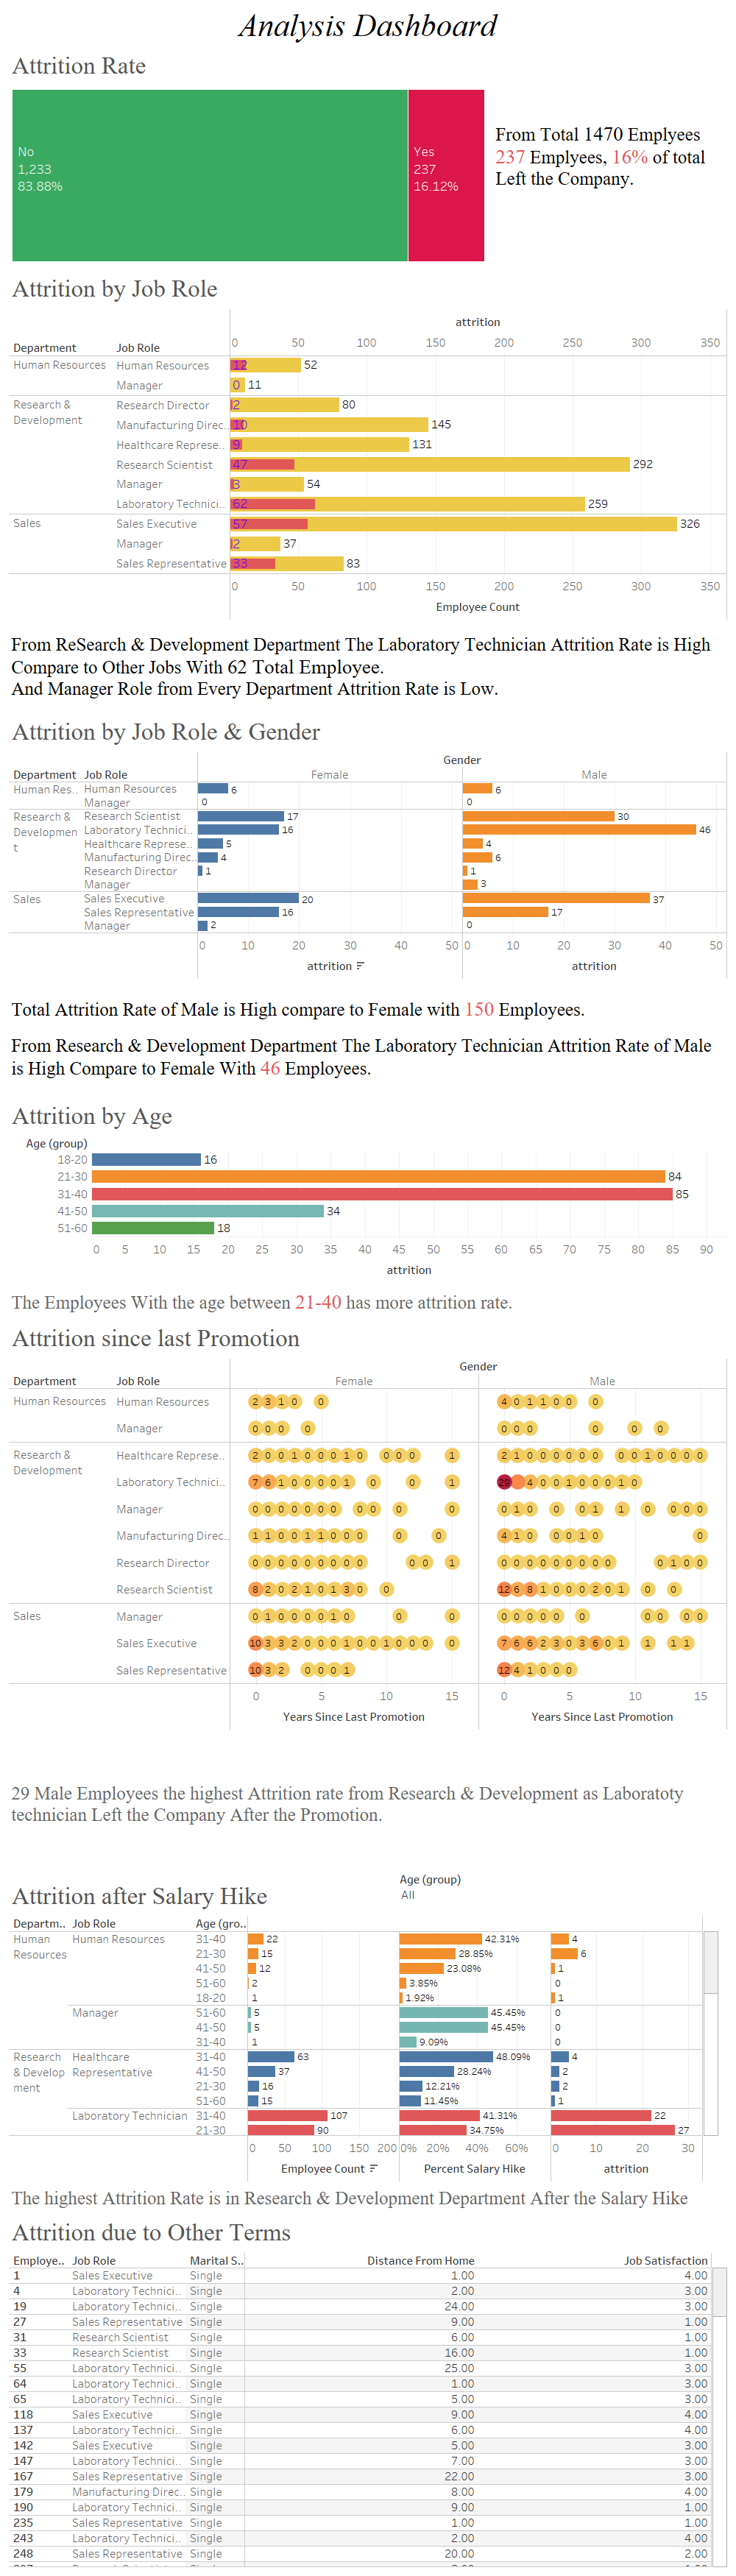

The dashboard page shown, as its layout file describes it:
{"tool":"tableau","page":{"name":"Dashboard 1","canvas":[1000,3500],"ordinal":0},"visuals":[{"type":"text","box":[8,8,984,53.2]},{"type":"worksheet","title":"Sheet 2","mark":"Automatic","box":[8,61.2,658,302.8]},{"type":"text","box":[666,61.2,326,302.8]},{"type":"worksheet","title":"Sheet 9","mark":"Bar","rows":["Department","JobRole"],"cols":["EmployeeCount","Calculation_286260112796614656"],"box":[8,364,984,483]},{"type":"text","box":[8,847,984,119]},{"type":"worksheet","title":"Sheet 3","mark":"Bar","rows":["Department","JobRole"],"cols":["Gender","Calculation_286260112796614656"],"box":[8,966,984,369]},{"type":"text","box":[8,1335,984,153]},{"type":"worksheet","title":"Sheet 10","mark":"Automatic","cols":["Calculation_286260112796614656"],"box":[8,1488,984,259]},{"type":"text","box":[8,1747,984,43]},{"type":"worksheet","title":"Sheet 4","mark":"Circle","rows":["Department","JobRole"],"cols":["Gender","YearsSinceLastPromotion"],"box":[8,1790,984,564.7]},{"type":"text","box":[8,2354.7,984,193]},{"type":"filter","title":"Sheet 5","param":"[federated.014920j0fi0i0o102ilbd05ff0xi].[Age (group)]","box":[543,2542,324,76]},{"type":"worksheet","title":"Sheet 5","mark":"Bar","rows":["Department","JobRole"],"cols":["EmployeeCount","Calculation_286260112796614656"],"box":[8,2547.7,984,421]},{"type":"text","box":[8,2968.7,984,36]},{"type":"worksheet","title":"Sheet 15","mark":"Automatic","rows":["EmployeeNumber","JobRole","MaritalStatus"],"box":[8,3004.8,984,487]}]}

Visuals, with their boxes in screenshot pixels (x1, y1, x2, y2), scaled from the page's 1000x3500 canvas onto the 736x2576 screenshot:
text: (x1=6, y1=6, x2=730, y2=45)
"Sheet 2" worksheet: (x1=6, y1=45, x2=490, y2=268)
text: (x1=490, y1=45, x2=730, y2=268)
"Sheet 9" worksheet (Bar marks): (x1=6, y1=268, x2=730, y2=623)
text: (x1=6, y1=623, x2=730, y2=711)
"Sheet 3" worksheet (Bar marks): (x1=6, y1=711, x2=730, y2=983)
text: (x1=6, y1=983, x2=730, y2=1095)
"Sheet 10" worksheet: (x1=6, y1=1095, x2=730, y2=1286)
text: (x1=6, y1=1286, x2=730, y2=1317)
"Sheet 4" worksheet (Circle marks): (x1=6, y1=1317, x2=730, y2=1733)
text: (x1=6, y1=1733, x2=730, y2=1875)
"Sheet 5" filter: (x1=400, y1=1871, x2=638, y2=1927)
"Sheet 5" worksheet (Bar marks): (x1=6, y1=1875, x2=730, y2=2185)
text: (x1=6, y1=2185, x2=730, y2=2212)
"Sheet 15" worksheet: (x1=6, y1=2212, x2=730, y2=2570)
